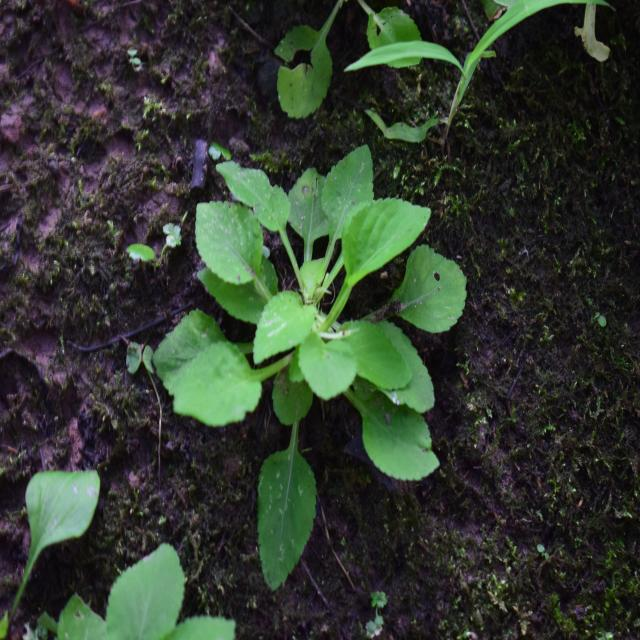Viola: (174, 172, 458, 544)
